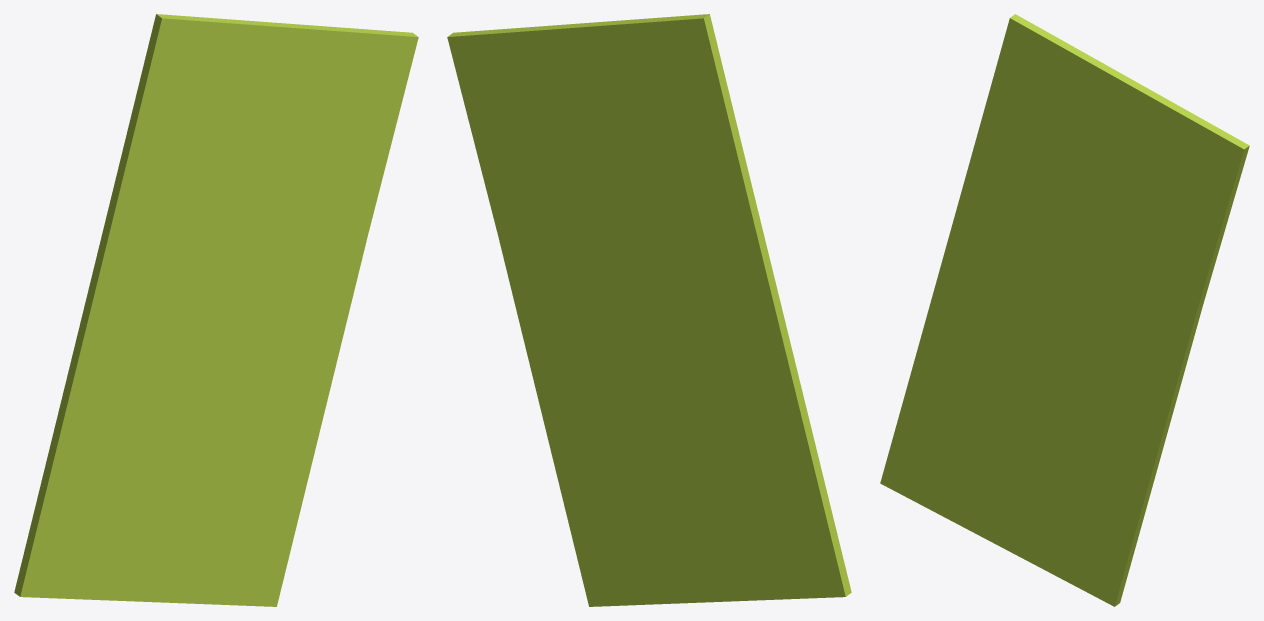
3 views of the same model, side by side, from view 1: azimuth 30°, elevation 25°; view 2: azimuth 150°, elevation 25°; view 3: azimuth 330°, elevation 25° (orthographic). The views are drawn at different scales.
Visible parts, largest first — view 1: osm-way27917482-F3; view 2: osm-way27917482-F3; view 3: osm-way27917482-F3.
Part boxes in pixels (bbox=[...]): osm-way27917482-F3: bbox=[14, 14, 418, 606]; osm-way27917482-F3: bbox=[447, 14, 851, 606]; osm-way27917482-F3: bbox=[880, 14, 1249, 606].
Size of the model in its own units: 5.75 by 8.51 by 0.15.
